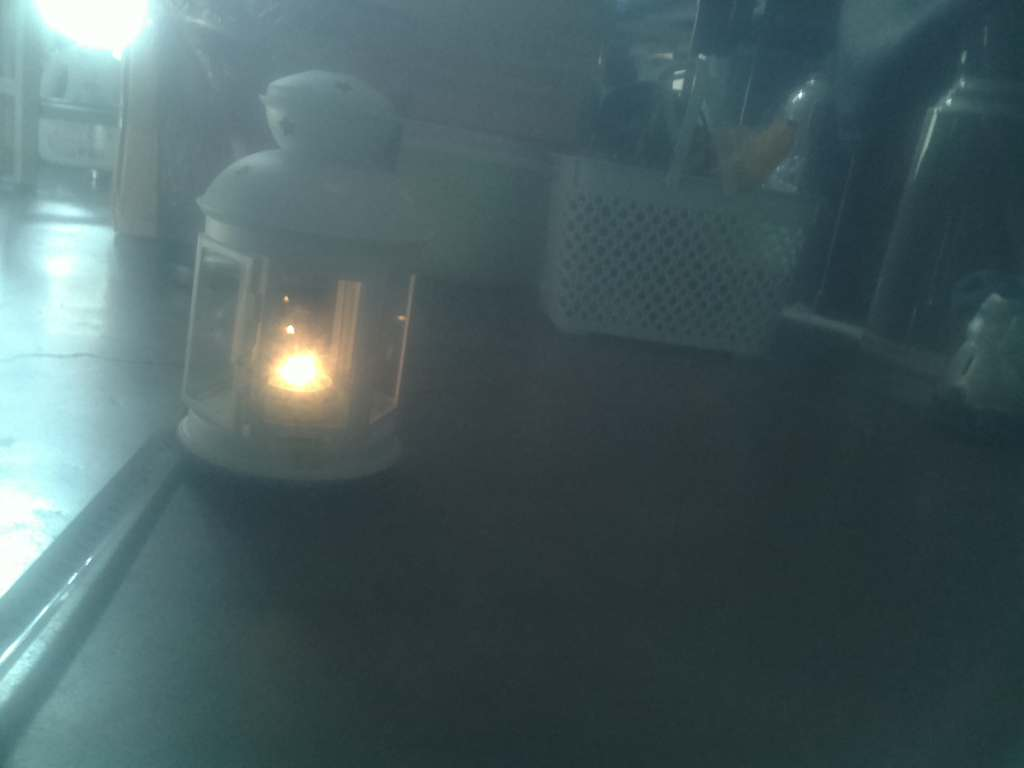fire: (259, 335, 342, 417)
